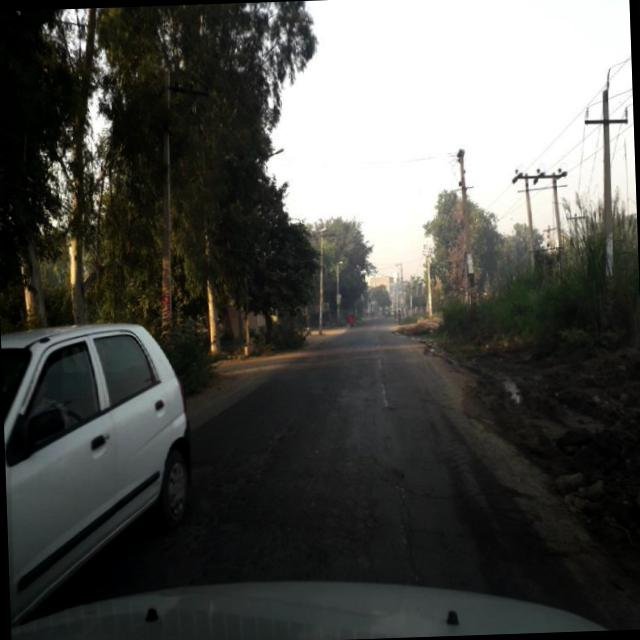crack: (220, 456, 482, 576)
pothole: (172, 407, 324, 574)
